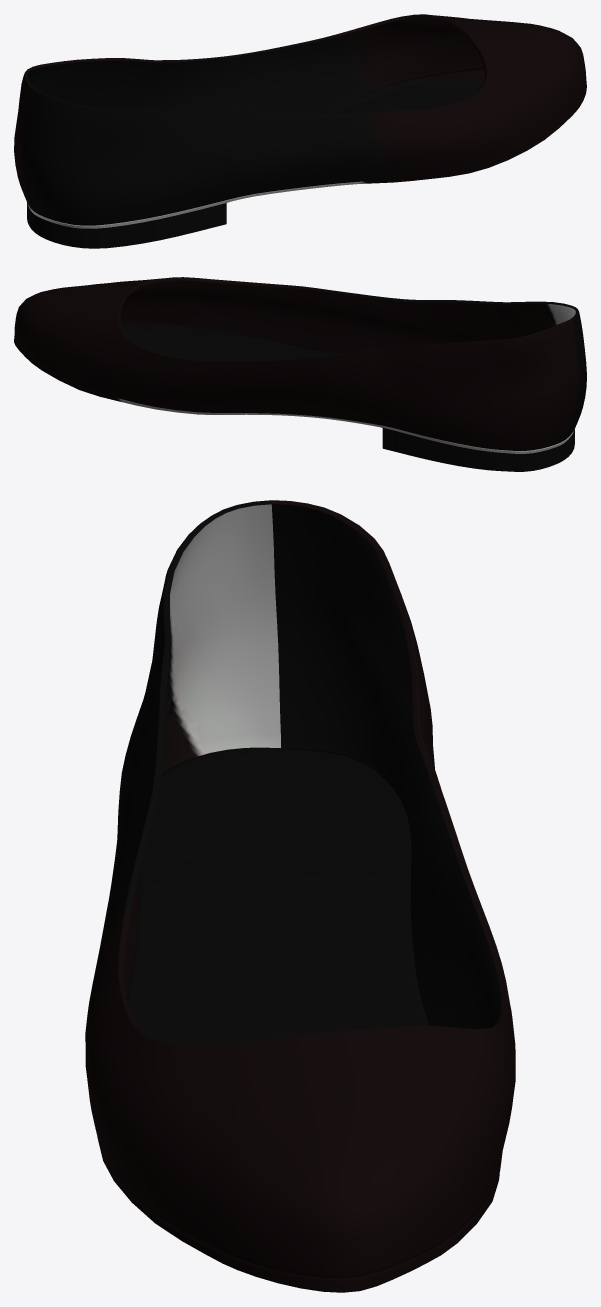
Rendered from ballet-flat.glb.
3 views of the same model, one above another, from view 1: azimuth 30°, elevation 25°; view 2: azimuth 150°, elevation 25°; view 3: azimuth 270°, elevation 25° (orthographic). The views are drawn at different scales.
Parts seen in each view (by area): view 1: ballerina_shoes_right; view 2: ballerina_shoes_right; view 3: ballerina_shoes_right.
Boxes of the visible parts, x1,y1,x2,y2 form: ballerina_shoes_right: (14, 14, 586, 248); ballerina_shoes_right: (14, 277, 586, 471); ballerina_shoes_right: (85, 500, 515, 1292).
Size of the model in its own units: 0.25 by 0.0617 by 0.0856.
Materials: 1 (1 with a texture image).
